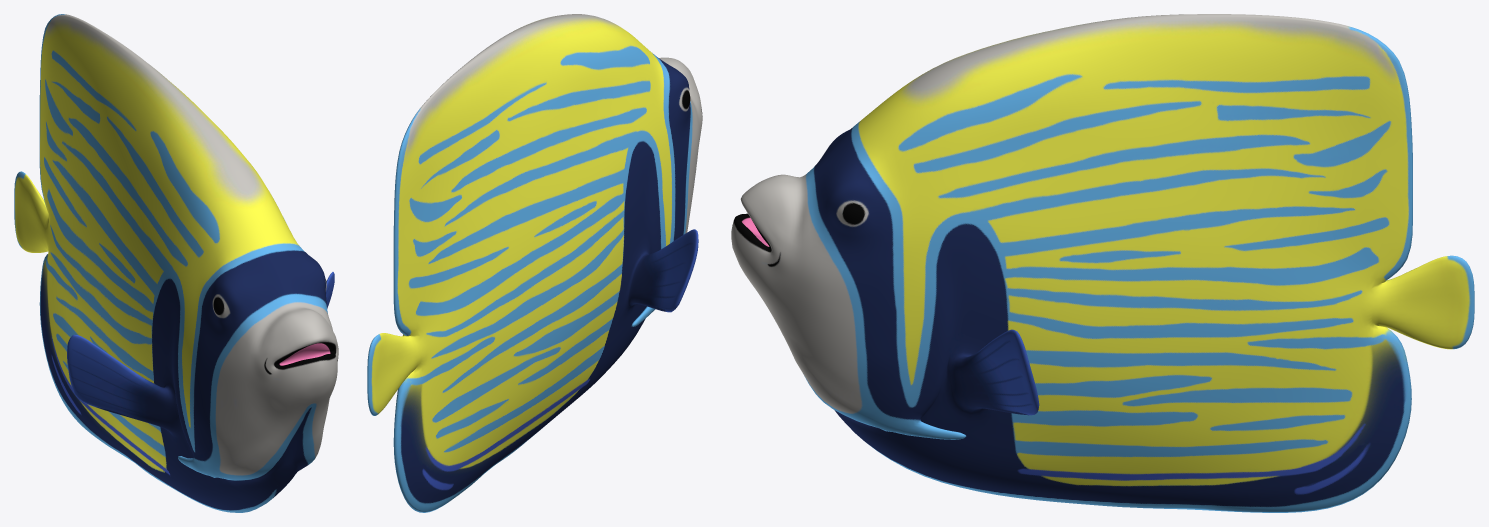
File: Angel Fish 3.fbx
3 renders of one model, left to right at view 1: azimuth 30°, elevation 25°; view 2: azimuth 150°, elevation 25°; view 3: azimuth 270°, elevation 25°, orthographic. The views are drawn at different scales.
Visible parts, largest first — view 1: node_id112; view 2: node_id112; view 3: node_id112.
Boxes of the visible parts, <box> form: node_id112: <box>14,14,338,512</box>; node_id112: <box>367,14,702,512</box>; node_id112: <box>731,14,1474,512</box>.
Size of the model in its own units: 0.3467 by 0.512 by 0.6911.
1 material, 1 textured.
